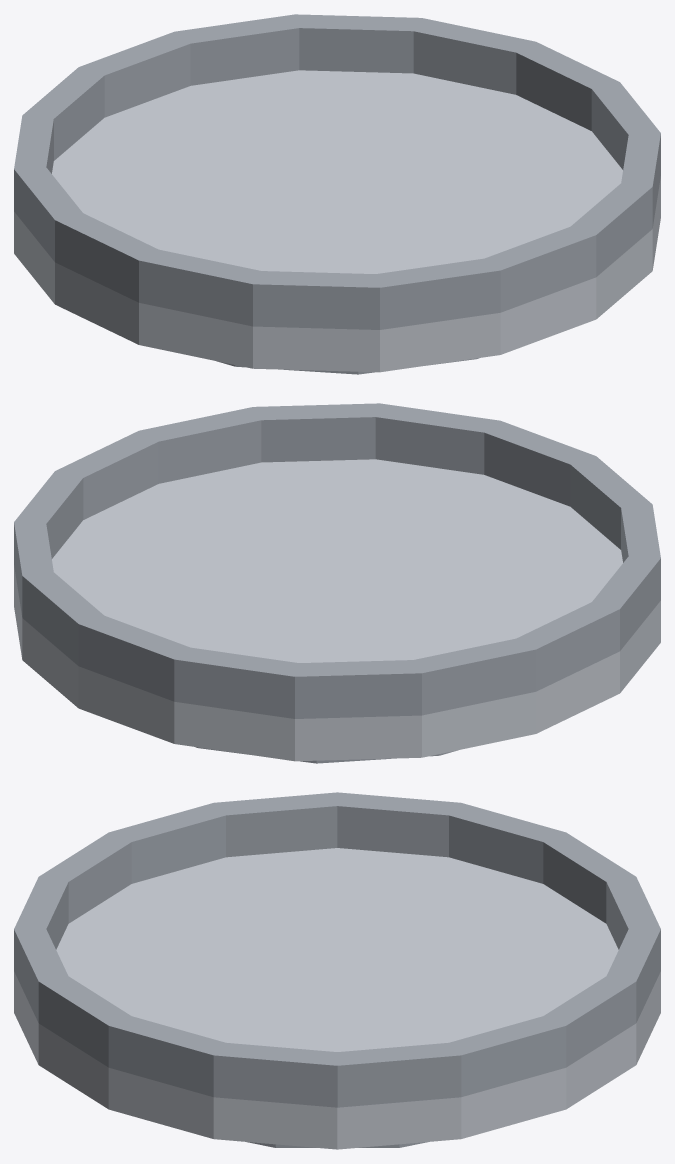
The model's file is CatCafe_Menu_Tray.glb.
The picture shows the model from 3 angles, top to bottom: view 1: azimuth 30°, elevation 25°; view 2: azimuth 150°, elevation 25°; view 3: azimuth 270°, elevation 25°; orthographic projection.
Parts seen in each view (by area): view 1: CatCafe_Menu_Tray; view 2: CatCafe_Menu_Tray; view 3: CatCafe_Menu_Tray.
Boxes of the visible parts, x1,y1,x2,y2 form: CatCafe_Menu_Tray: [14, 14, 660, 374]; CatCafe_Menu_Tray: [14, 403, 660, 763]; CatCafe_Menu_Tray: [14, 792, 660, 1149].
Size of the model in its own units: 1.4 by 0.25 by 1.4.
1 material, 1 textured.
